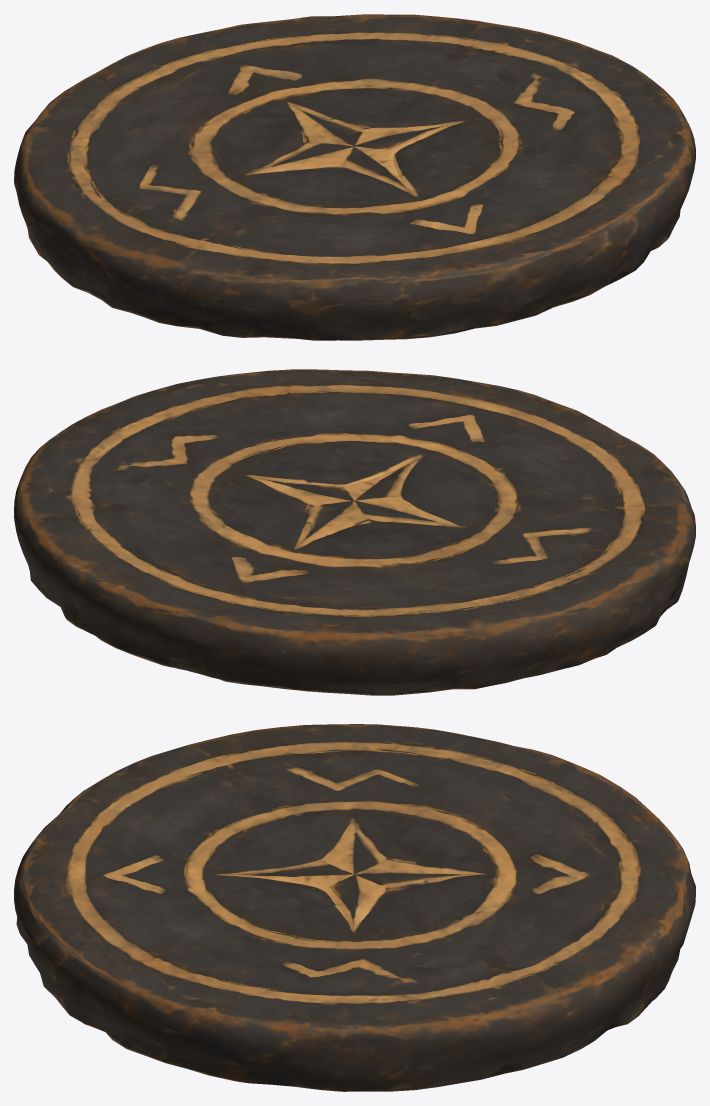
File: sumicio_piedra_runica.glb
The picture shows the model from 3 angles, top to bottom: view 1: azimuth 30°, elevation 25°; view 2: azimuth 150°, elevation 25°; view 3: azimuth 270°, elevation 25°; orthographic projection. The views are drawn at different scales.
Parts seen in each view (by area): view 1: PiedraRunica; view 2: PiedraRunica; view 3: PiedraRunica.
Part boxes in pixels (box(x1,y1,x2,y2)): PiedraRunica: box(14, 14, 695, 340); PiedraRunica: box(14, 369, 695, 695); PiedraRunica: box(14, 724, 695, 1091).
Size of the model in its own units: 0.3 by 0.0321 by 0.2814.
Materials: 1 (1 with a texture image).
